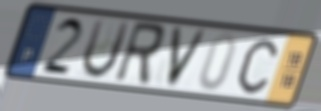0: (197, 30, 239, 93)
2: (37, 16, 87, 77)
C: (235, 36, 279, 96)
R: (110, 20, 168, 89)
U: (80, 17, 133, 82)
V: (163, 24, 211, 91)
